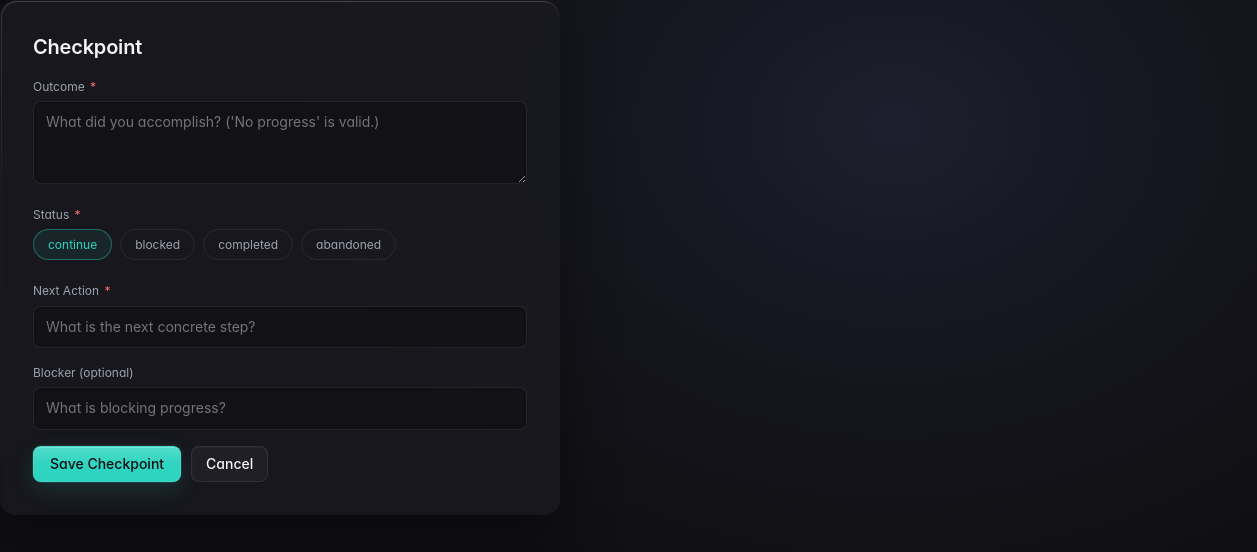
it: CheckpointView › shows error when outcome is empty and form submitted
Click the button "Save Checkpoint".
click(107, 464)  # box x1=33 y1=446 x2=181 y2=482
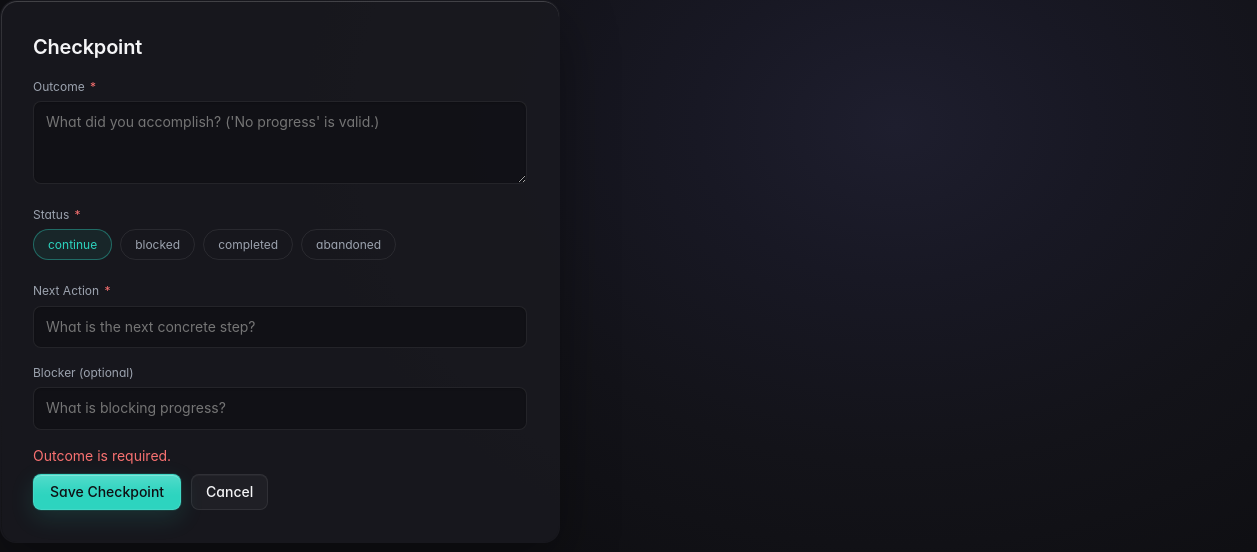
Expected: the message "Outcome is required." is shown, x1=33 y1=447 x2=171 y2=464
